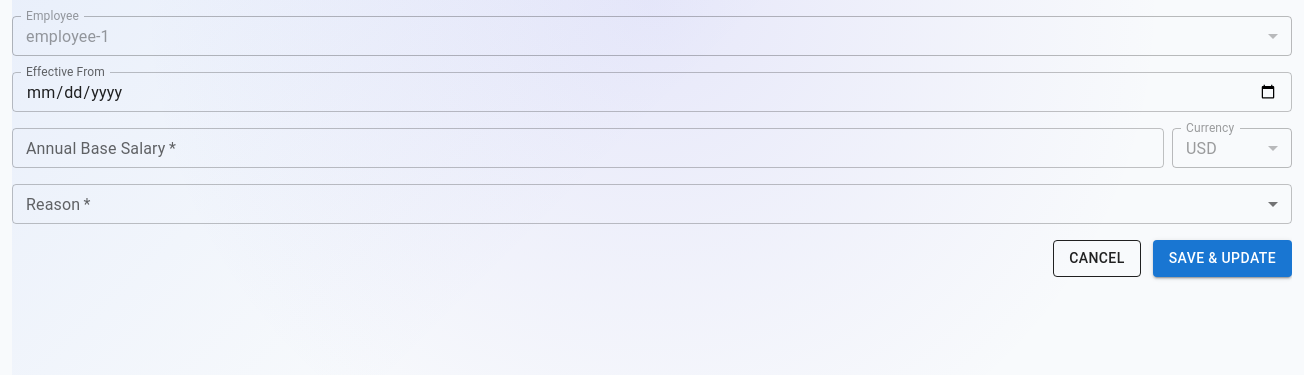
Scenario: SalaryUpdateForm › validates required fields
Step 1. Click the button "Save & Update" → click(1222, 258), box [1153,240,1292,276]
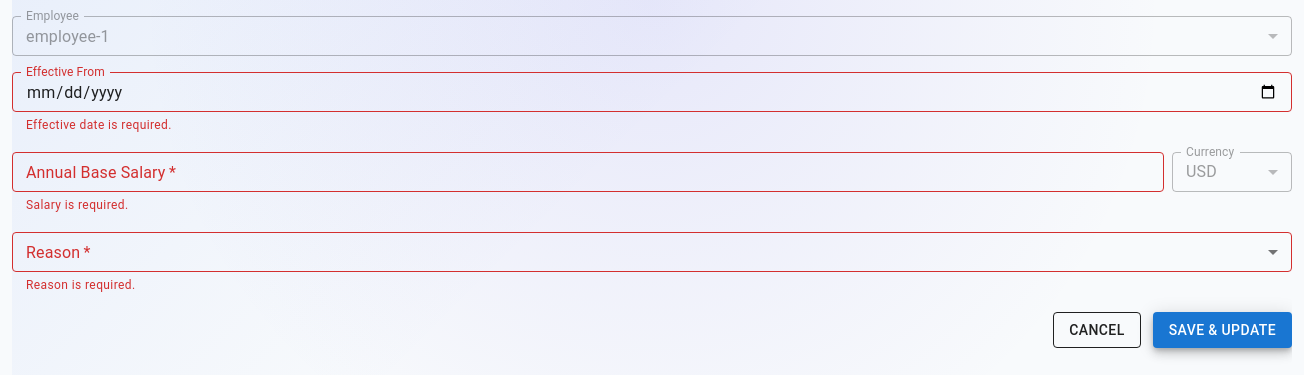
Expected: the text "Salary is required." is shown, [26,198,128,212]
Expected: the text "Reason is required." is shown, [26,278,136,292]
Expected: the text "Effective date is required." is shown, [26,118,172,132]
